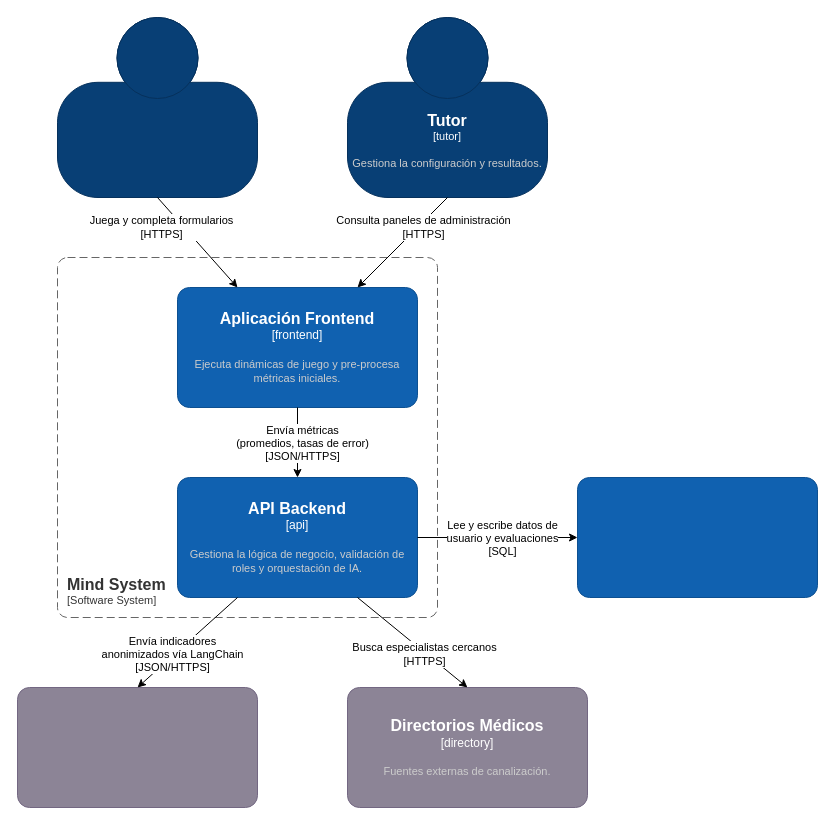
Image size: 835x825. Some labels were removed from this diagram. The centre of each missing label's shape, as x and y in pixels:
Base de Datos [db] Almacena perfiles, evaluaciones y resultados históricos.: point (697, 537)
Google AI Studio [ai_service] Servicio externo de análisis de IA.: point (137, 747)
Usuario (Infante/Adulto) [user] Interactúa con la capa de presentación.: point (157, 107)
